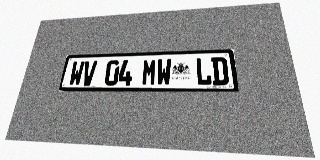0: (104, 60, 120, 86)
4: (118, 60, 133, 86)
D: (211, 57, 229, 85)
L: (195, 57, 212, 85)
M: (141, 59, 157, 86)
V: (81, 61, 97, 86)
W: (68, 61, 85, 86), (156, 58, 171, 85)
